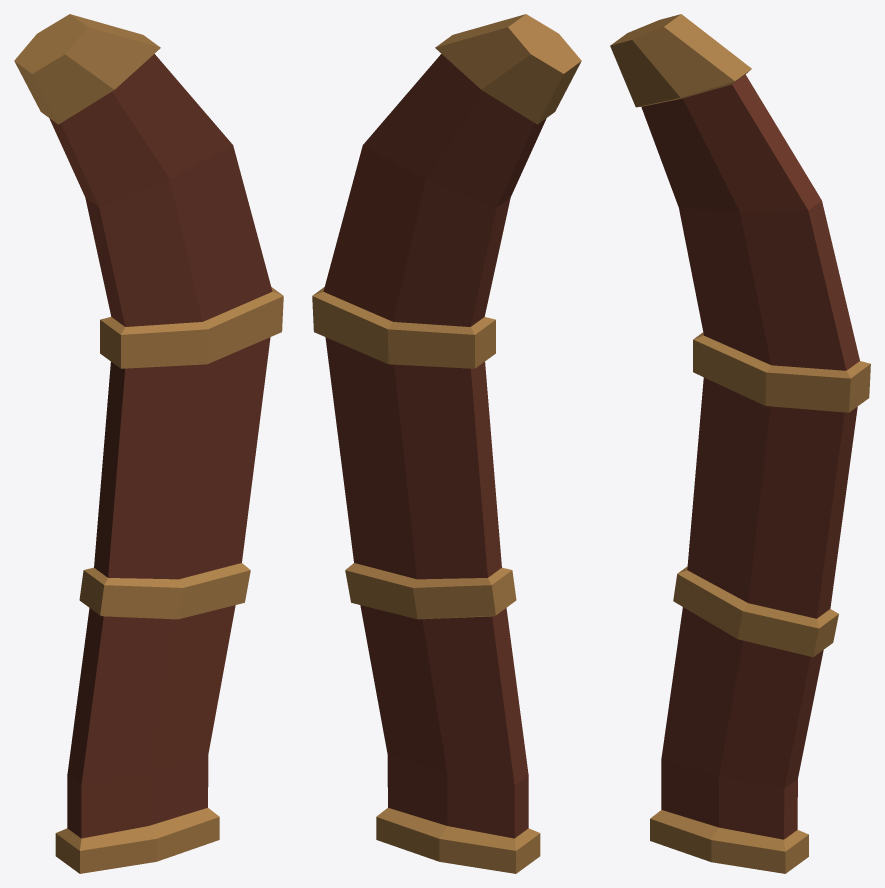
Rendered from SM_Wep_Cutlass_03_Sheath.glb.
The picture shows the model from 3 angles, left to right: view 1: azimuth 30°, elevation 25°; view 2: azimuth 150°, elevation 25°; view 3: azimuth 330°, elevation 25°; orthographic projection. The views are drawn at different scales.
Parts seen in each view (by area): view 1: SM_Wep_Cutlass_03_Sheath; view 2: SM_Wep_Cutlass_03_Sheath; view 3: SM_Wep_Cutlass_03_Sheath.
Part boxes in pixels (<box>): SM_Wep_Cutlass_03_Sheath: <box>14,14,283,873</box>; SM_Wep_Cutlass_03_Sheath: <box>312,14,581,873</box>; SM_Wep_Cutlass_03_Sheath: <box>610,14,870,873</box>.
Bounding box in the file's own units: 0.00271 × 0.00874 × 0.00071.
